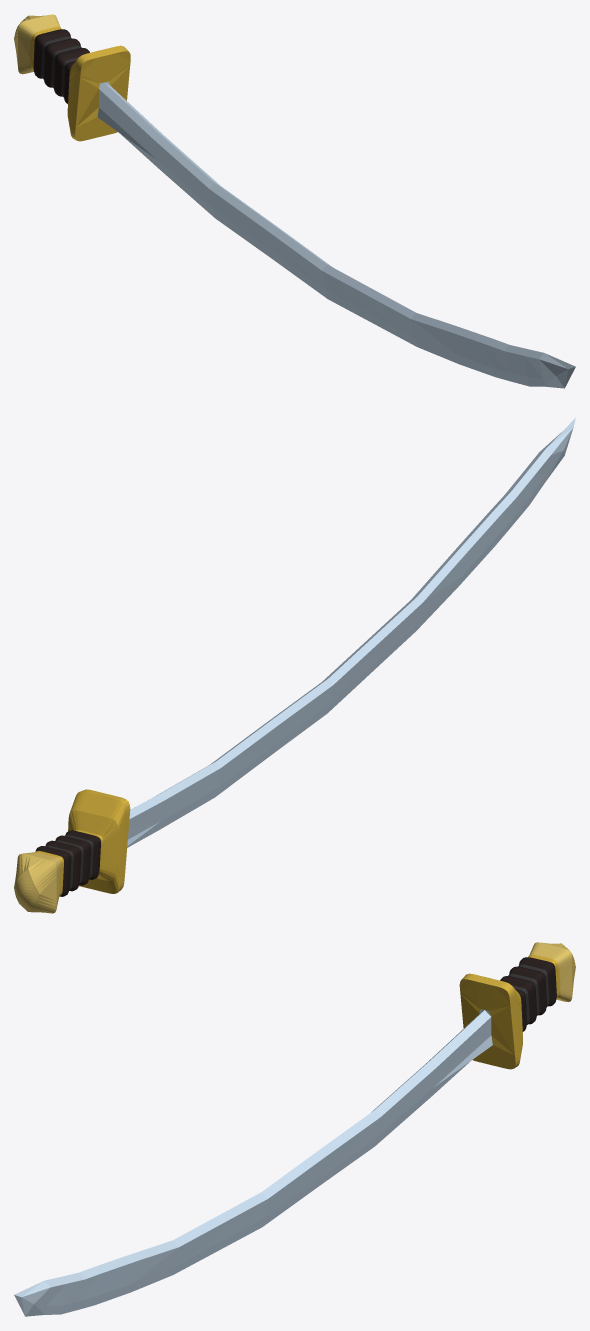
The model's file is sabreLight.obj.
The picture shows the model from 3 angles, top to bottom: view 1: azimuth 30°, elevation 25°; view 2: azimuth 150°, elevation 25°; view 3: azimuth 330°, elevation 25°; orthographic projection.
Visible parts, largest first — view 1: testMelee.001; view 2: testMelee.001; view 3: testMelee.001.
Boxes of the visible parts, x1,y1,x2,y2 form: testMelee.001: (14, 14, 575, 388); testMelee.001: (14, 418, 575, 913); testMelee.001: (14, 942, 575, 1316).
Size of the model in its own units: 0.0857 by 0.1964 by 1.64.
